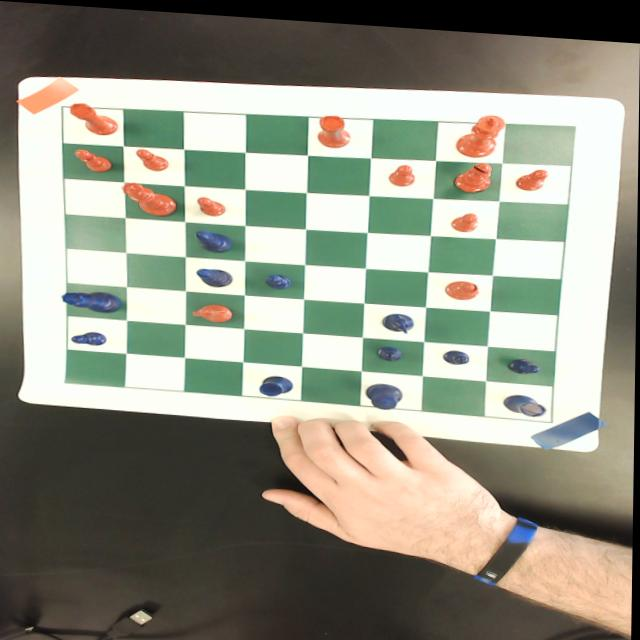B: (196, 227, 234, 249), (196, 263, 234, 284)
K: (366, 376, 404, 404)
N: (379, 305, 420, 327)
P: (71, 328, 109, 345), (507, 349, 542, 367), (266, 268, 294, 286), (443, 342, 473, 358), (377, 339, 405, 355)
Q: (61, 288, 122, 311)
R: (504, 385, 548, 411), (260, 370, 295, 394)
b: (455, 154, 495, 188), (445, 272, 482, 294)
k: (456, 105, 506, 152)
n: (192, 298, 235, 320)
p: (73, 146, 114, 171), (515, 159, 550, 185), (136, 145, 170, 169), (387, 157, 416, 181), (451, 204, 481, 226), (197, 192, 227, 213)
q: (122, 180, 177, 214)
r: (68, 101, 119, 134), (317, 109, 353, 143)
